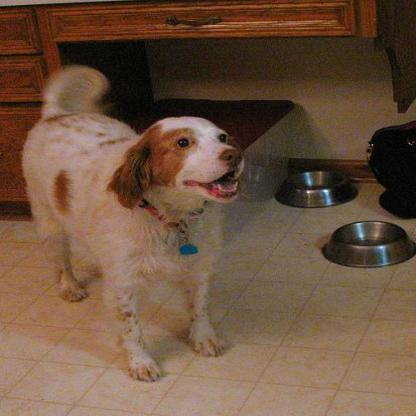Brittany_spaniel: (19, 64, 245, 380)
